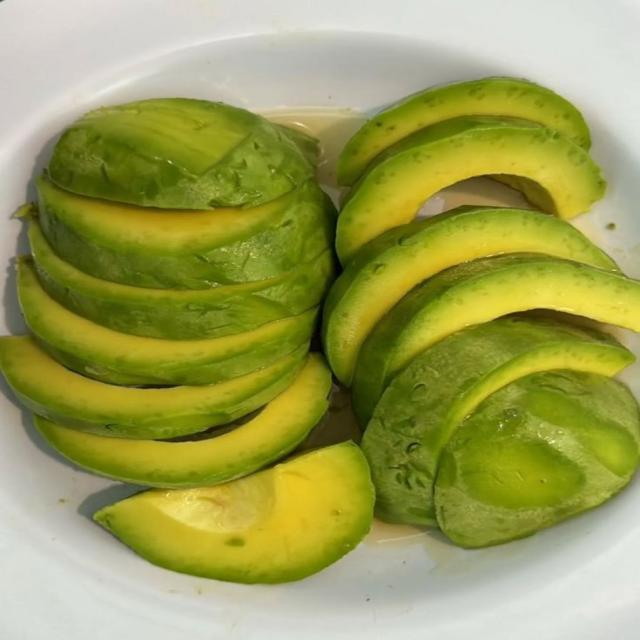avocado: (362, 317, 633, 524), (324, 207, 617, 385), (353, 254, 639, 425), (35, 354, 331, 487), (337, 117, 606, 263), (95, 443, 373, 583), (18, 262, 317, 385), (29, 221, 334, 339), (435, 371, 639, 547), (38, 177, 335, 289), (0, 336, 307, 439), (48, 98, 314, 208), (337, 78, 590, 185), (277, 124, 321, 166)
